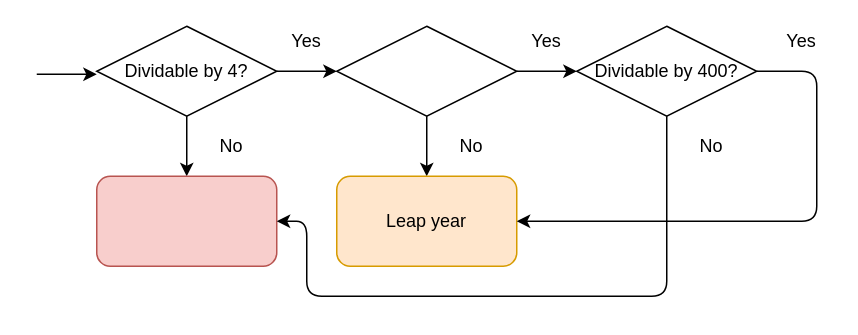
Image size: 858x335. Some labels were removed from this diagram. Here are the shapes that lost their labels. From the top down, the centre of each, then its label:
(x=426, y=70): Dividable by 100?
(x=186, y=220): Not a leap year
